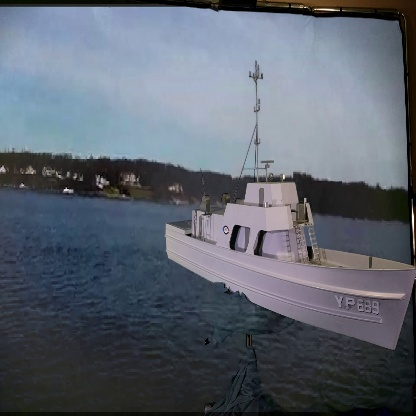YP689: (164, 63, 416, 356)
